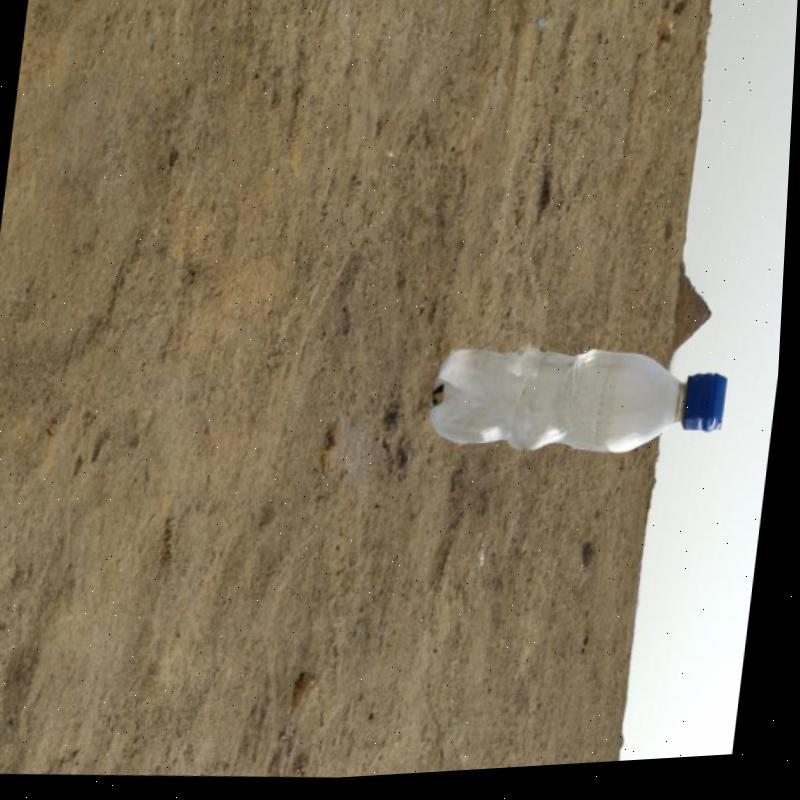botella: (425, 330, 737, 482)
